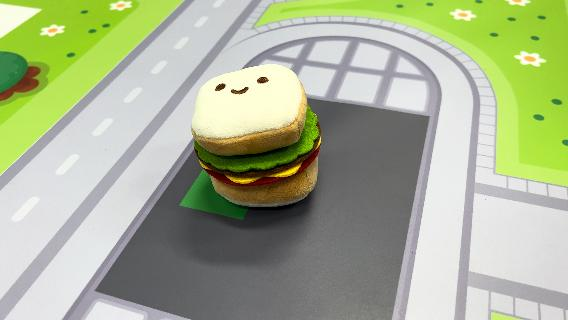sandwich: (190, 62, 324, 208)
